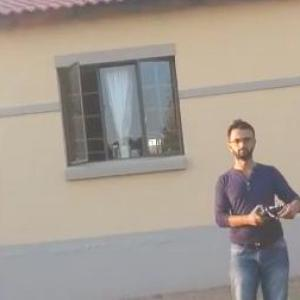follow: (209, 111, 299, 299)
